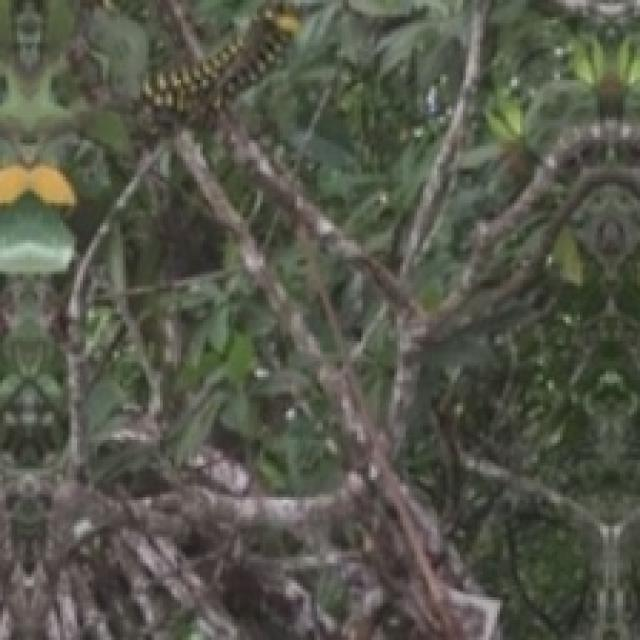mangrove cat snake: (143, 3, 300, 117)
